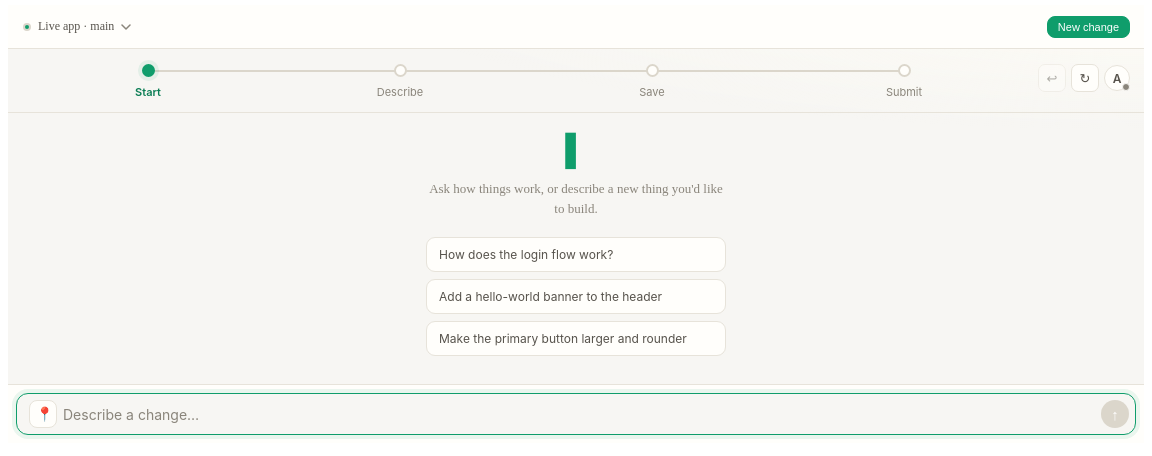
Test: Panel › renders assistant text from message.updated + message.part.updated
Expected: the button named "alice" is shown, [1104,65,1130,91]
Type "plan it" into the text box with placeholder "Describe a change…".
click(579, 415); type("plan it")  # box [63,402,1095,428]
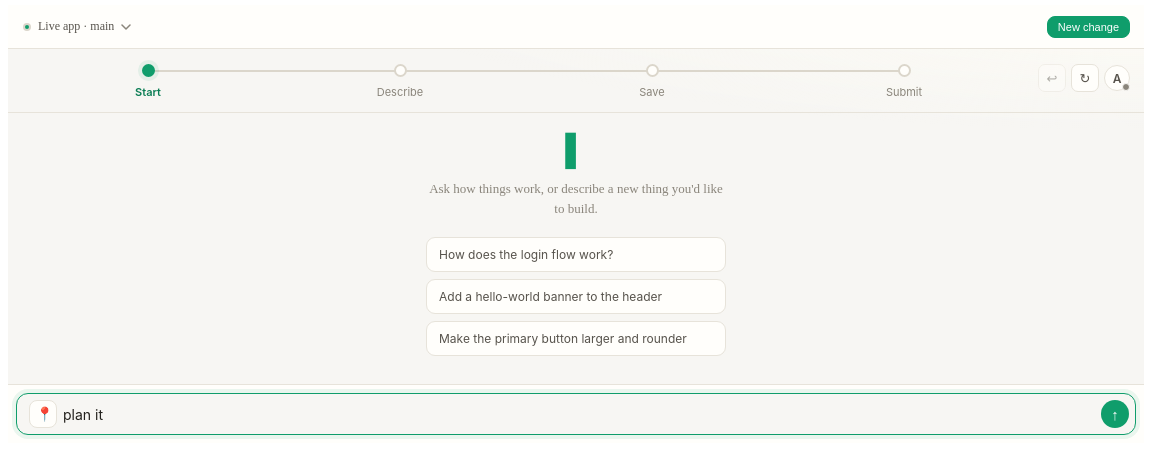
Click the button named "send".
click(1115, 414)  # box [1101,400,1129,428]
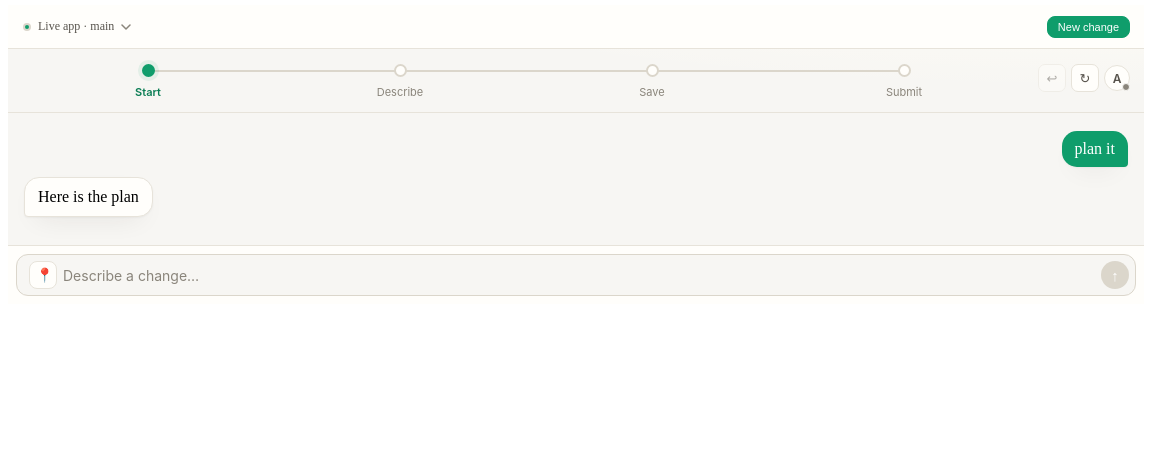
Now the text "Here is the plan" is shown, box [24,177,153,217]
